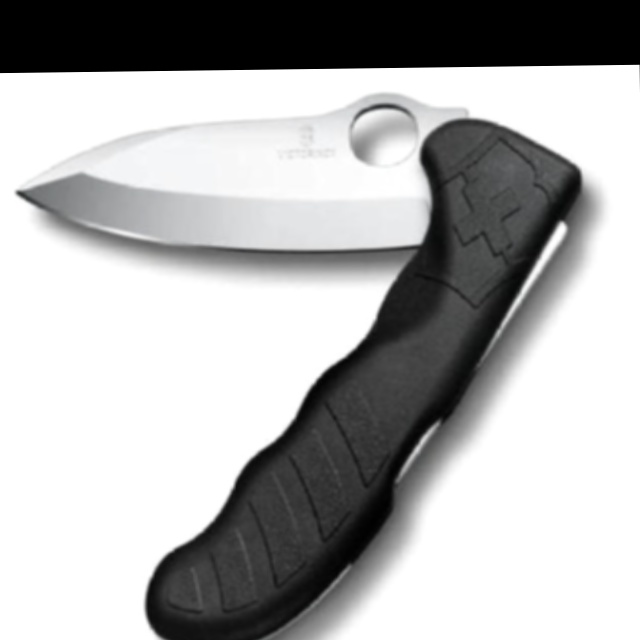Sharp-Object: (14, 92, 585, 640)
